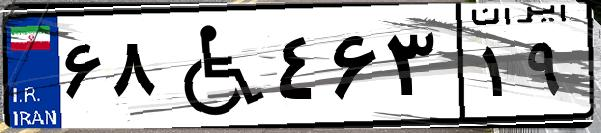1: (475, 38, 525, 113)
3: (385, 28, 445, 110)
4: (270, 28, 330, 110)
6: (330, 28, 385, 110), (57, 26, 110, 100)
8: (110, 28, 158, 98)
9: (525, 38, 570, 115)
ژ (معلولین و جانبازان): (158, 12, 270, 120)
